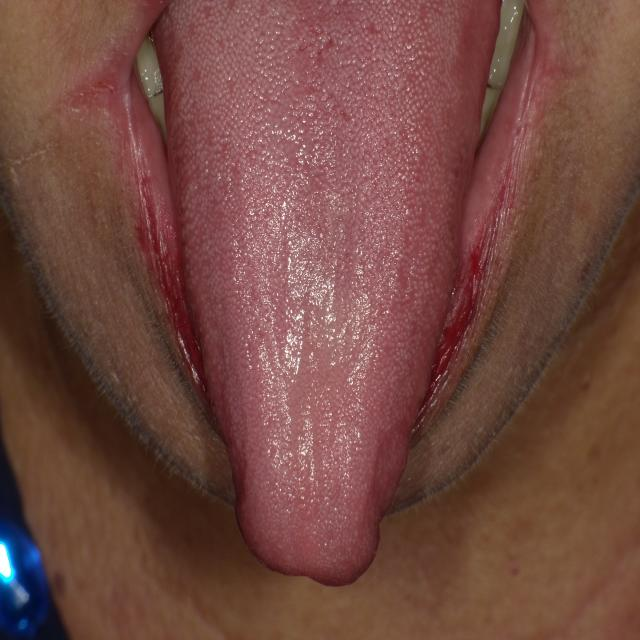baitaishe: (156, 1, 503, 585)
hongshe: (155, 1, 502, 585)
shoushe: (156, 1, 503, 585)
